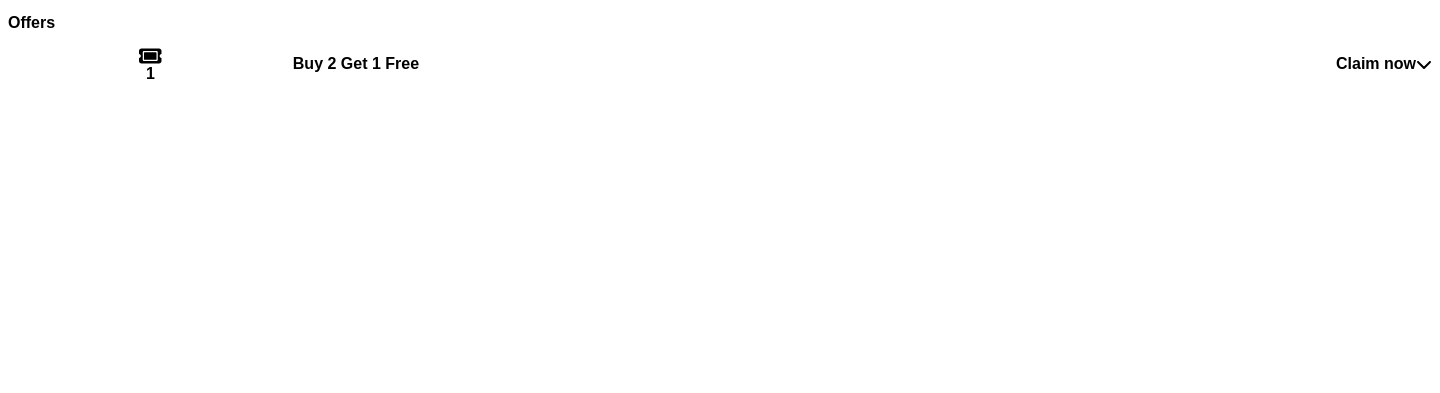
Test: store page offers › shows a few products and counts the rest
Click the button "1 Buy 2 Get 1 Free Claim now".
click(356, 63)  # box [8,46,1432,82]
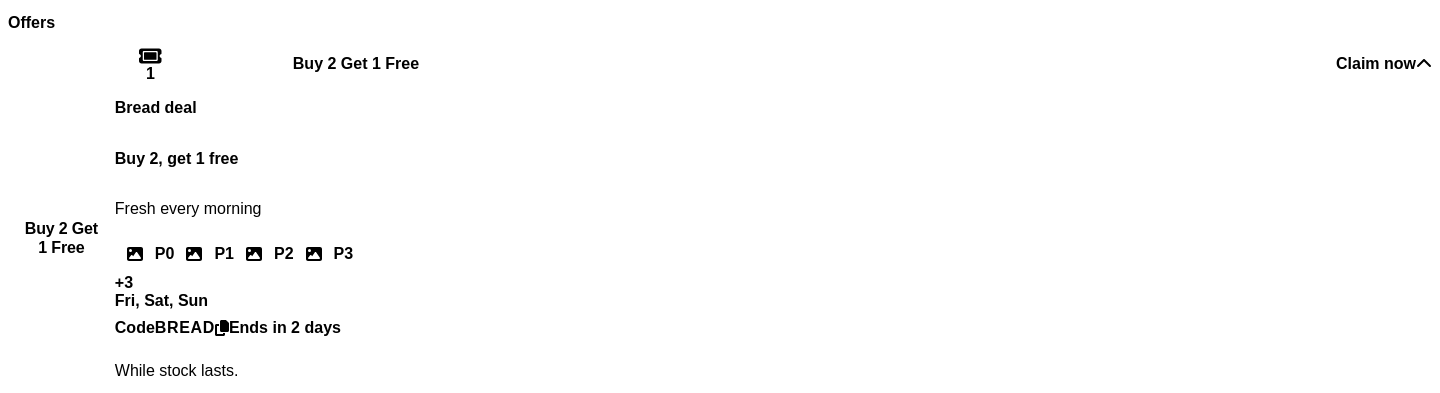
Check: the number of buttons named "Open P" is 4, box [115,234,174,274]; [174,234,234,274]; [234,234,294,274]; [294,234,353,274]
Check: the list item "+3" is shown, box [115,274,133,292]
